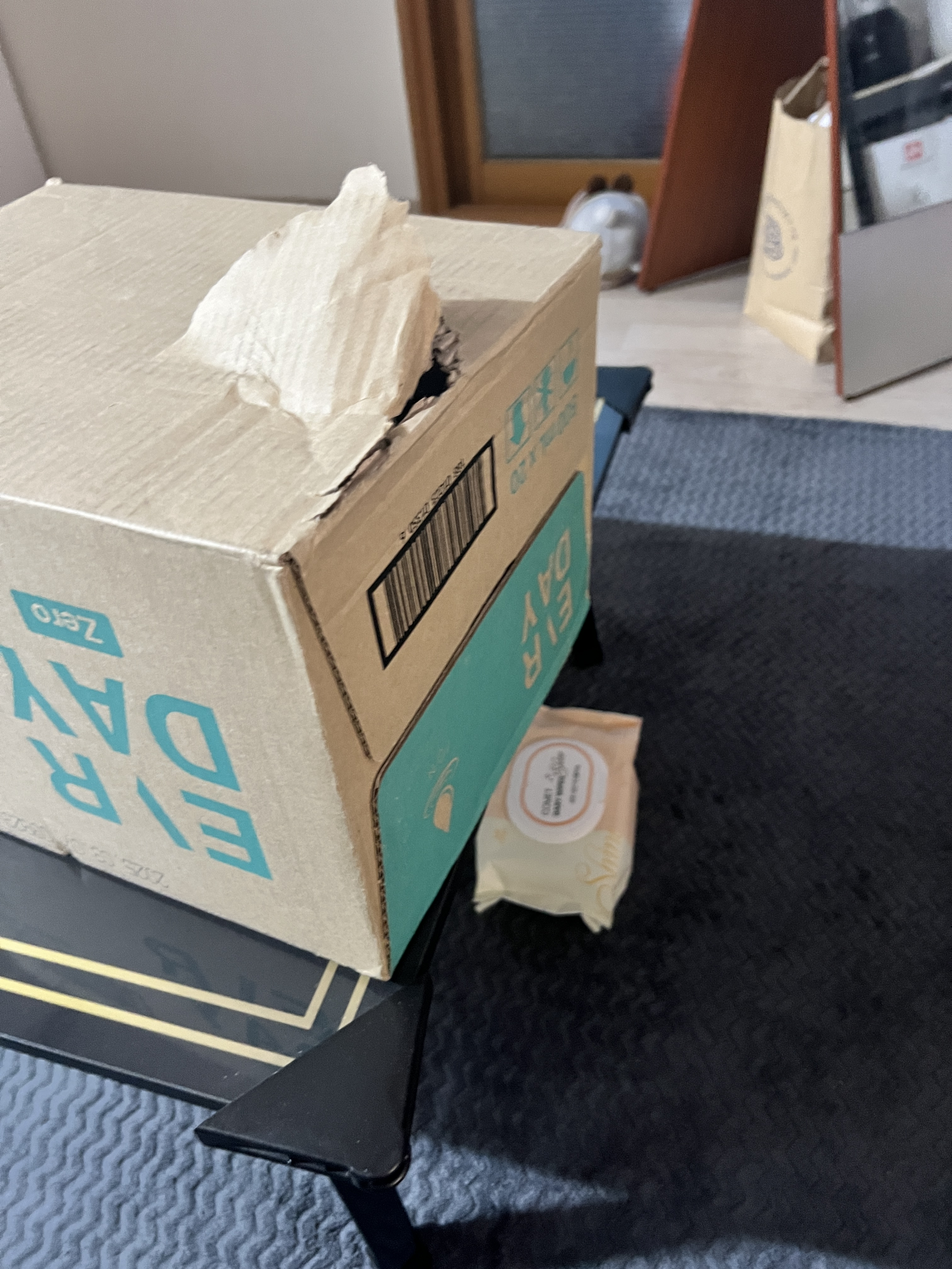damaged package: (129, 119, 543, 606)
